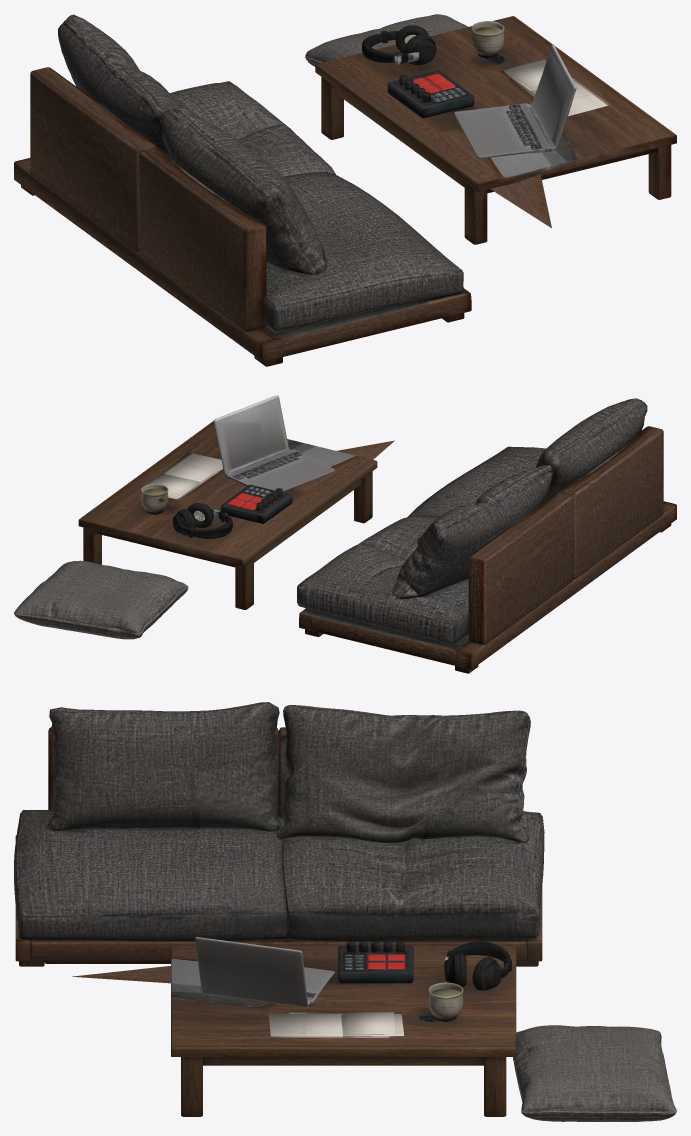
The model's file is sofa.glb.
The picture shows the model from 3 angles, top to bottom: view 1: azimuth 30°, elevation 25°; view 2: azimuth 150°, elevation 25°; view 3: azimuth 270°, elevation 25°; orthographic projection. The views are drawn at different scales.
Parts seen in each view (by area): view 1: tripo_node_00ce3699-13b6-456e-95f0-57591c80a718; view 2: tripo_node_00ce3699-13b6-456e-95f0-57591c80a718; view 3: tripo_node_00ce3699-13b6-456e-95f0-57591c80a718.
Part boxes in pixels (x1,y1,x2,y2): tripo_node_00ce3699-13b6-456e-95f0-57591c80a718: (14, 14, 676, 366); tripo_node_00ce3699-13b6-456e-95f0-57591c80a718: (14, 395, 676, 673); tripo_node_00ce3699-13b6-456e-95f0-57591c80a718: (14, 702, 676, 1121).
Size of the model in its own units: 0.9233 by 0.3188 by 0.9995.
Materials: 1 (1 with a texture image).
